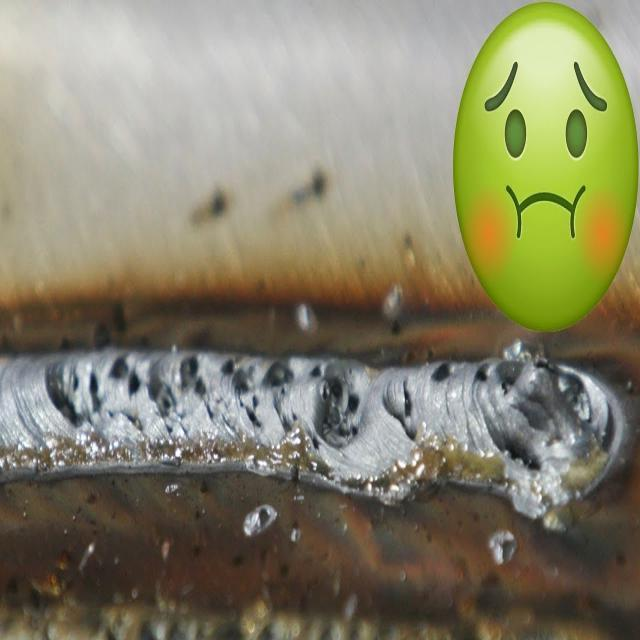Porosity: (304, 362, 366, 455), (107, 353, 180, 420), (536, 350, 594, 429), (214, 356, 270, 432), (500, 428, 543, 478), (175, 353, 215, 404), (401, 377, 428, 444), (256, 356, 298, 393), (84, 370, 108, 423), (496, 365, 520, 404), (428, 355, 454, 390), (470, 363, 491, 390), (68, 368, 84, 397)
